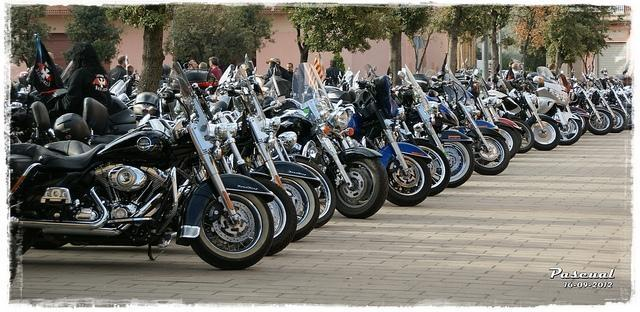motorcycle: (12, 62, 275, 270), (220, 64, 338, 229), (263, 62, 387, 219), (194, 84, 300, 256), (324, 61, 432, 209), (226, 85, 322, 248), (423, 50, 514, 177), (400, 64, 476, 190), (388, 86, 451, 198), (456, 56, 522, 160), (526, 71, 584, 145), (506, 80, 562, 152), (485, 80, 537, 154)
